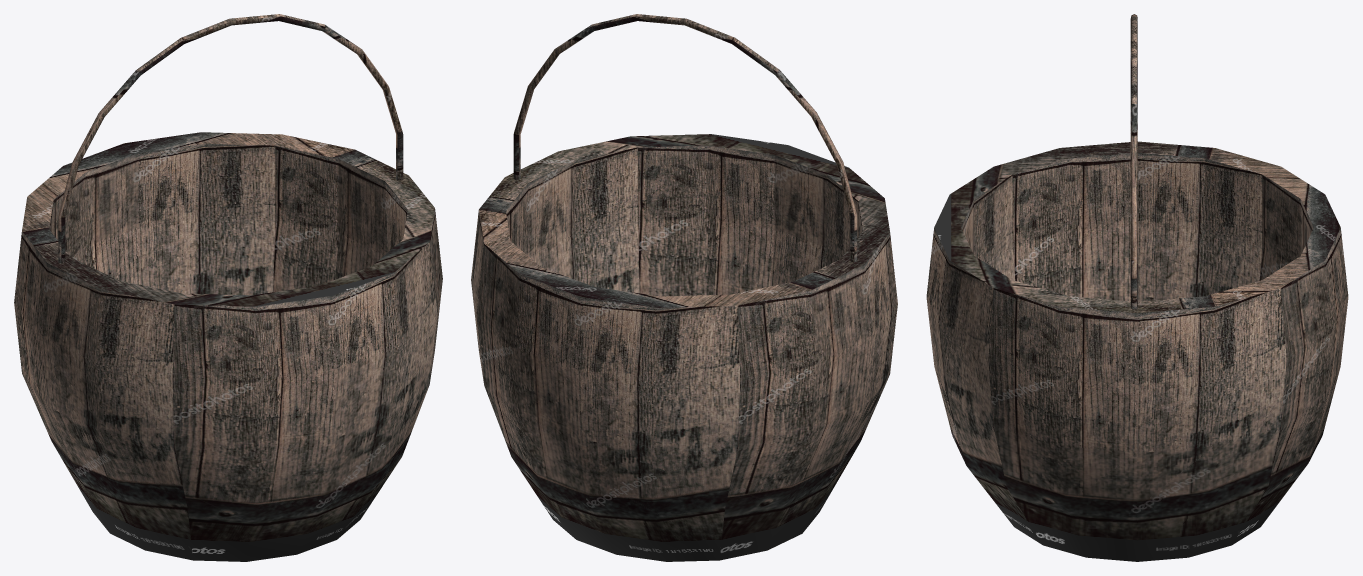
Rendered from balde.obj.
3 views of the same model, side by side, from view 1: azimuth 30°, elevation 25°; view 2: azimuth 150°, elevation 25°; view 3: azimuth 270°, elevation 25° (orthographic). The views are drawn at different scales.
Visible parts, largest first — view 1: Cylinder001; view 2: Cylinder001; view 3: Cylinder001.
Part boxes in pixels (left/top/right/bottom): Cylinder001: left=14, top=14, right=442, bottom=561; Cylinder001: left=471, top=14, right=897, bottom=561; Cylinder001: left=926, top=14, right=1348, bottom=561.
Bounding box in the file's own units: 10.38 × 12.9 × 10.38.
